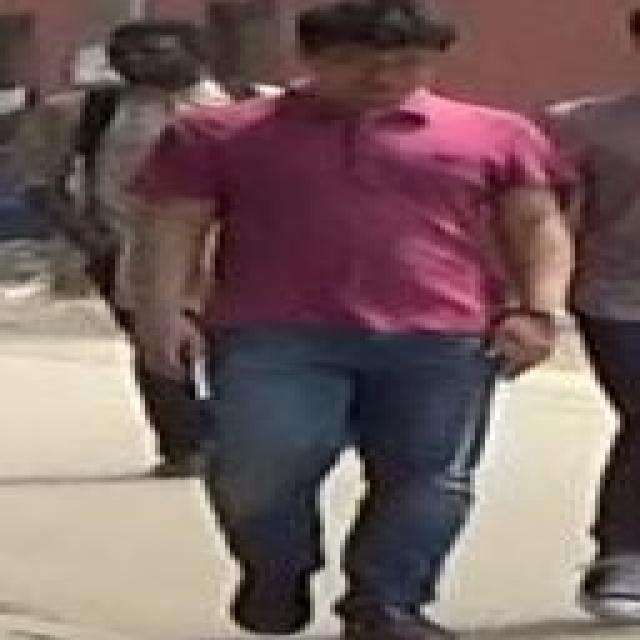adult: (140, 0, 575, 640), (56, 35, 280, 446)
